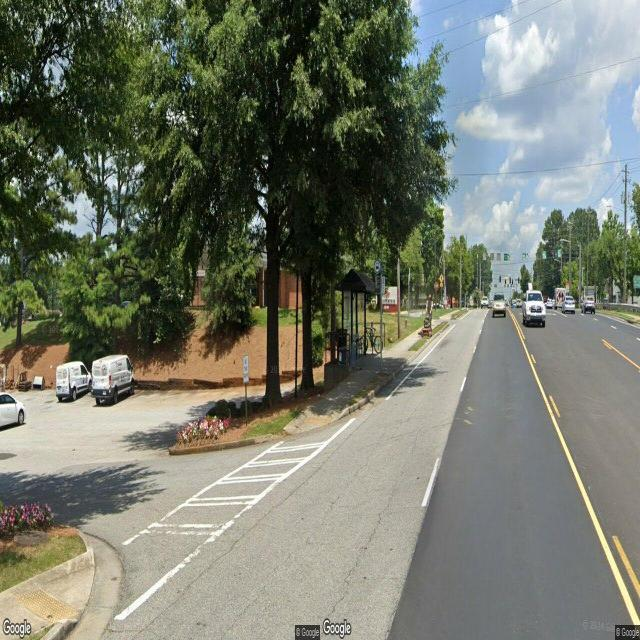shelter: (334, 267, 379, 369)
trash_can: (337, 328, 347, 368)
